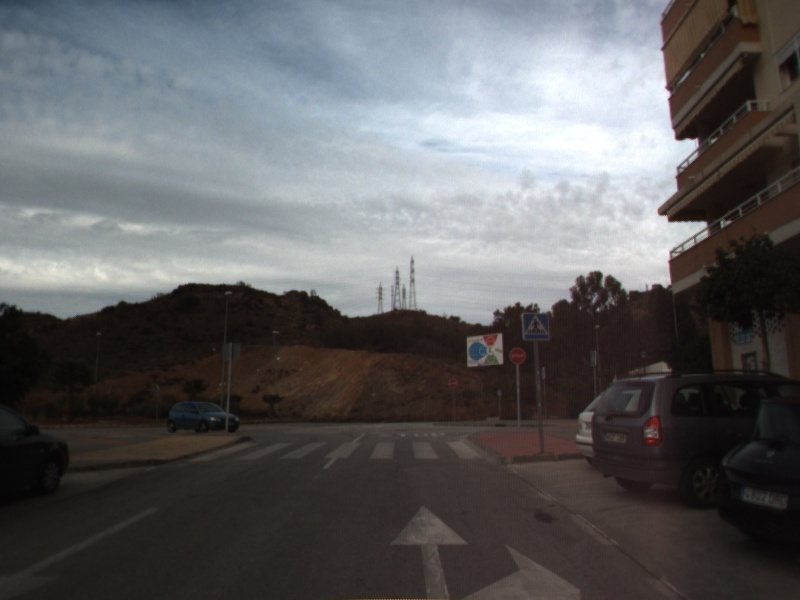STRAIGHT_RIGHT: (386, 500, 586, 600)
